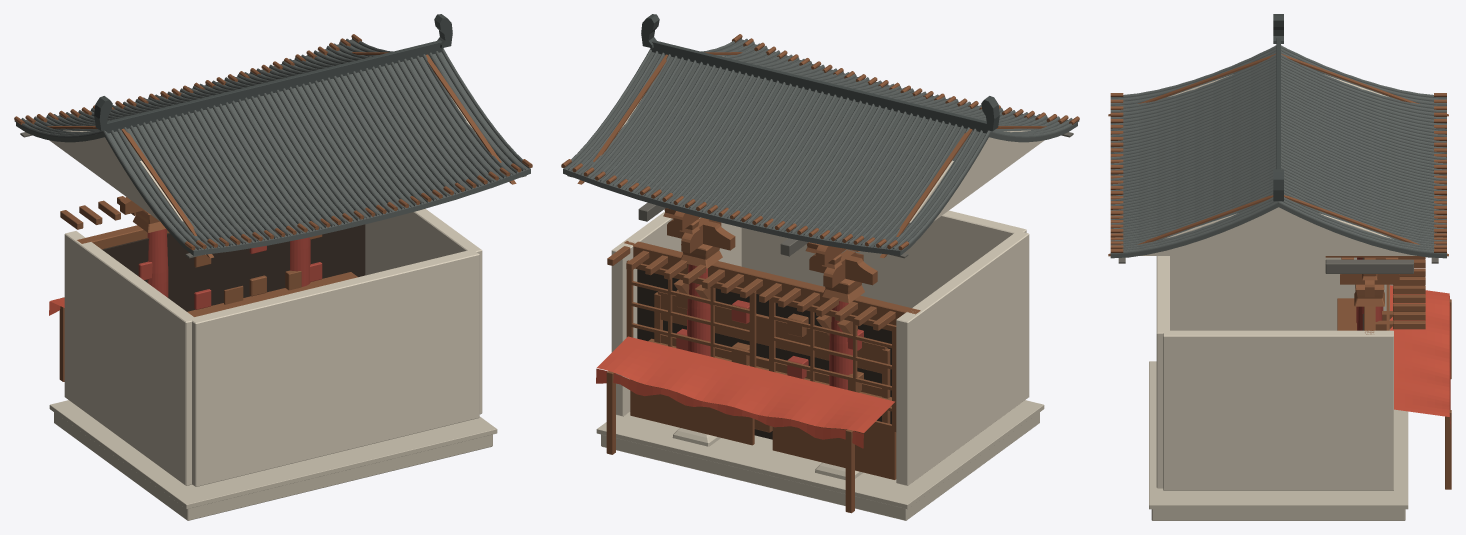
File: shop-shijing.glb
3 renders of one model, left to right at view 1: azimuth 30°, elevation 25°; view 2: azimuth 150°, elevation 25°; view 3: azimuth 270°, elevation 25°, orthographic. The views are drawn at different scales.
Visible parts, largest first — view 1: shop_shijing; view 2: shop_shijing; view 3: shop_shijing.
Boxes of the visible parts, left/top/right/bottom form: shop_shijing: left=14, top=14, right=532, bottom=520; shop_shijing: left=561, top=14, right=1079, bottom=520; shop_shijing: left=1108, top=14, right=1451, bottom=520.
Bounding box in the file's own units: 5.9 × 6.03 × 5.24.
